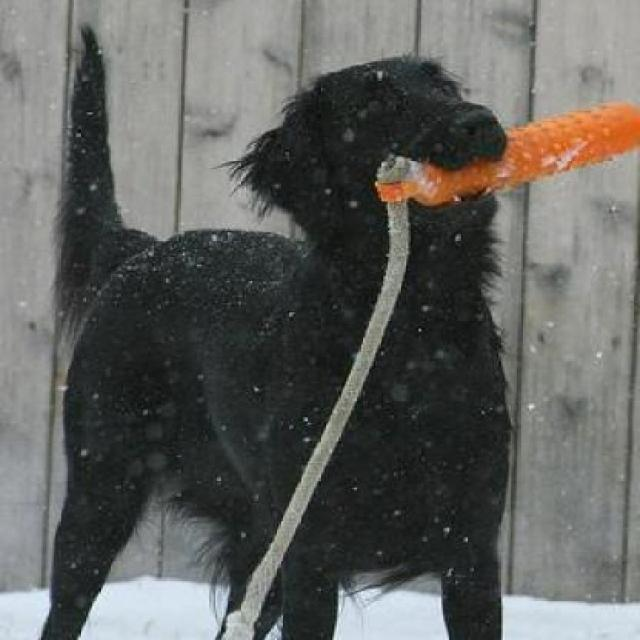Dog: (35, 14, 517, 638)
